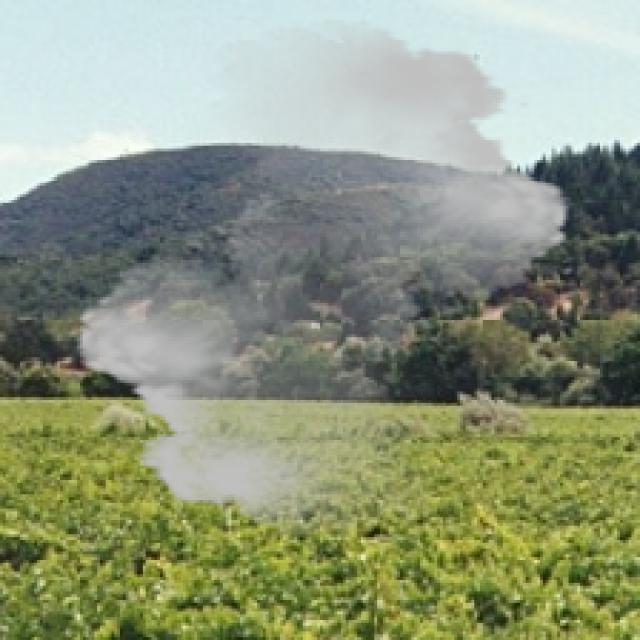smoke: (60, 20, 586, 534)
